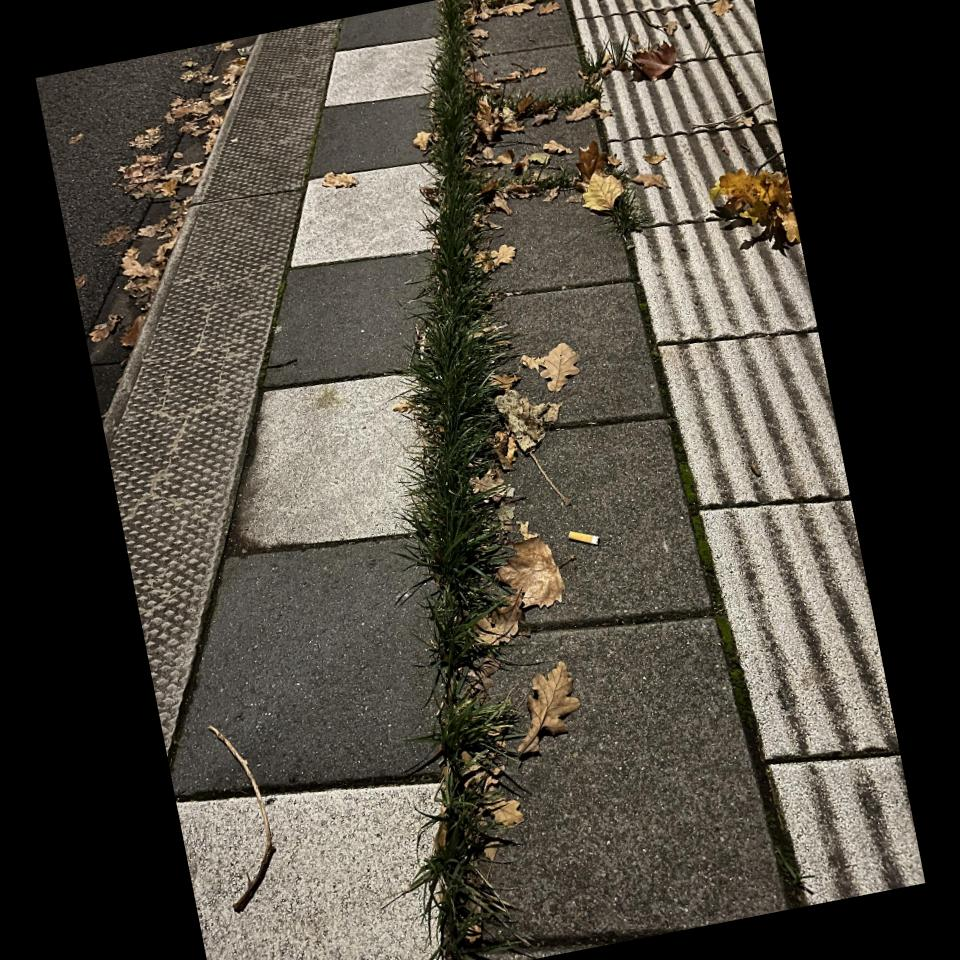weed: (423, 13, 483, 960)
